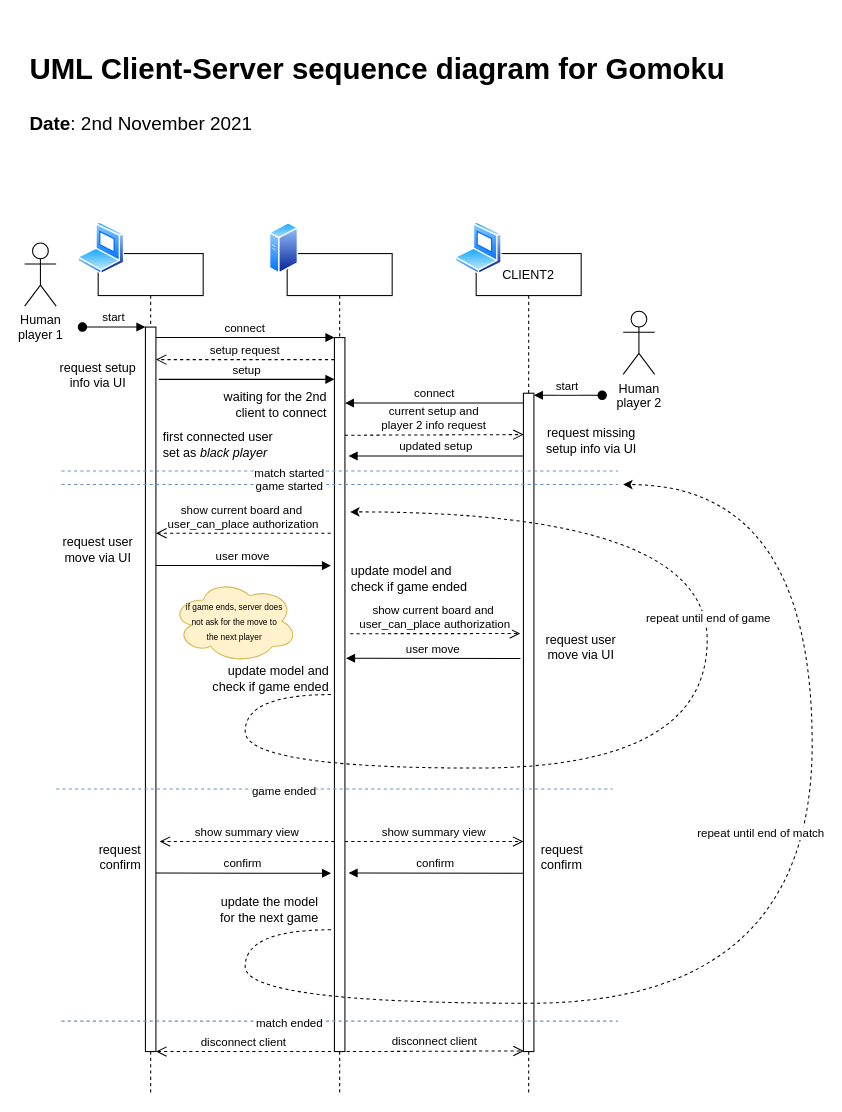
Image size: 842x1112. Some labels were removed from this diagram. The box of each missing label's shape, as (x1, y1, x2, y2) in pixels:
CLIENT1: (97, 253, 203, 1094)
SERVER: (286, 253, 392, 1094)
